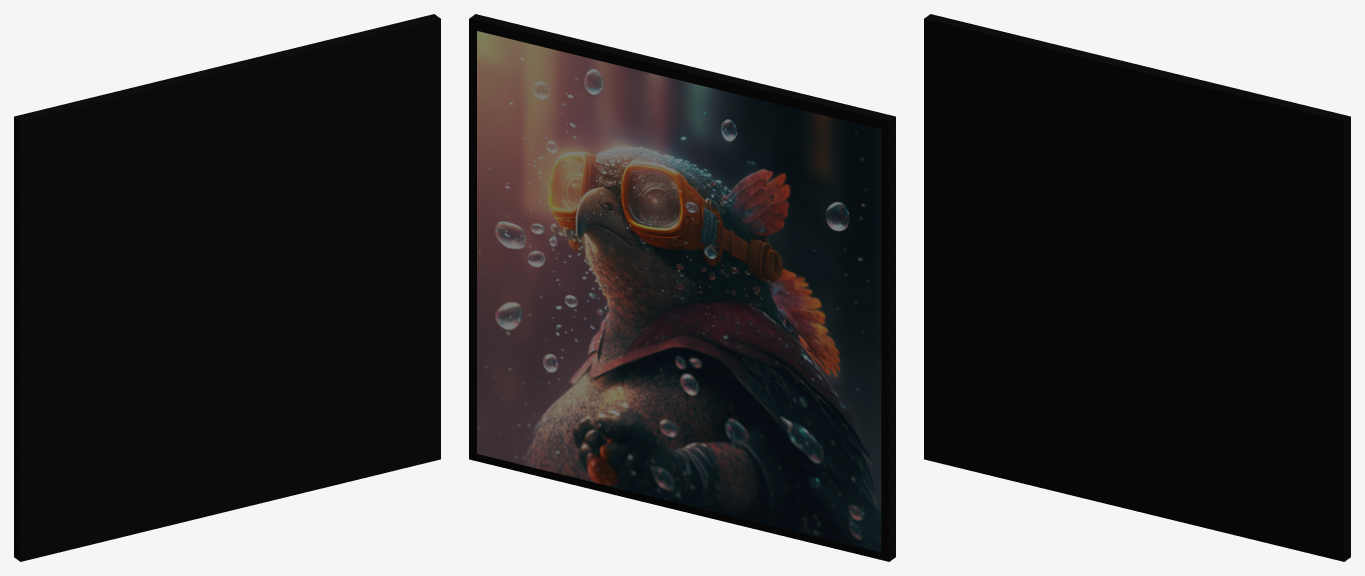
File: Animal2.glb
3 views of the same model, side by side, from view 1: azimuth 30°, elevation 25°; view 2: azimuth 150°, elevation 25°; view 3: azimuth 330°, elevation 25° (orthographic).
Parts seen in each view (by area): view 1: node_id27; view 2: mesh_id1, node_id27; view 3: node_id27.
Boxes of the visible parts, box(x1,y1,x2,y2) form: node_id27: box(14, 14, 440, 561); mesh_id1: box(477, 31, 881, 552); node_id27: box(469, 14, 895, 561); node_id27: box(924, 14, 1350, 561).
Bounding box in the file's own units: 0.9899 × 0.9918 × 0.0273.
Materials: 2 (2 with a texture image).
